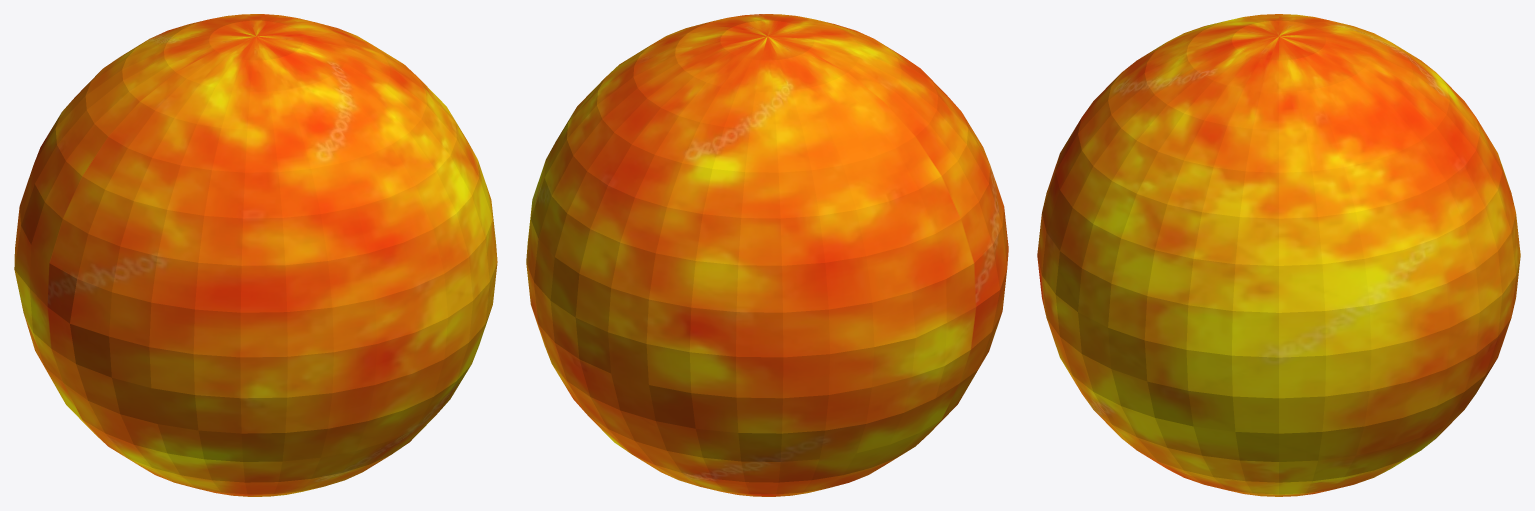
Rendered from Sol.obj.
3 renders of one model, left to right at view 1: azimuth 30°, elevation 25°; view 2: azimuth 150°, elevation 25°; view 3: azimuth 270°, elevation 25°, orthographic.
Visible parts, largest first — view 1: Esfera; view 2: Esfera; view 3: Esfera.
Boxes of the visible parts, x1,y1,x2,y2 form: Esfera: (14,14,497,496); Esfera: (526,14,1008,496); Esfera: (1037,14,1520,496).
Size of the model in its own units: 2 by 2 by 2.
Materials: 1 (1 with a texture image).
